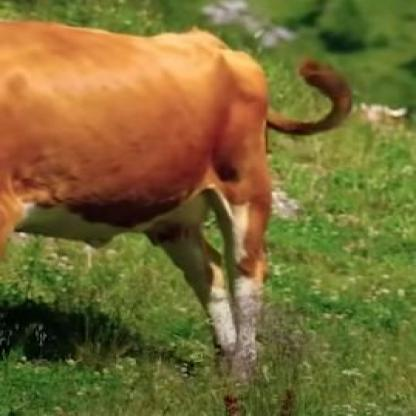cow: (0, 20, 354, 386)
